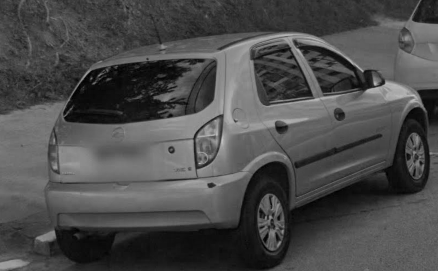car: (44, 31, 431, 266)
